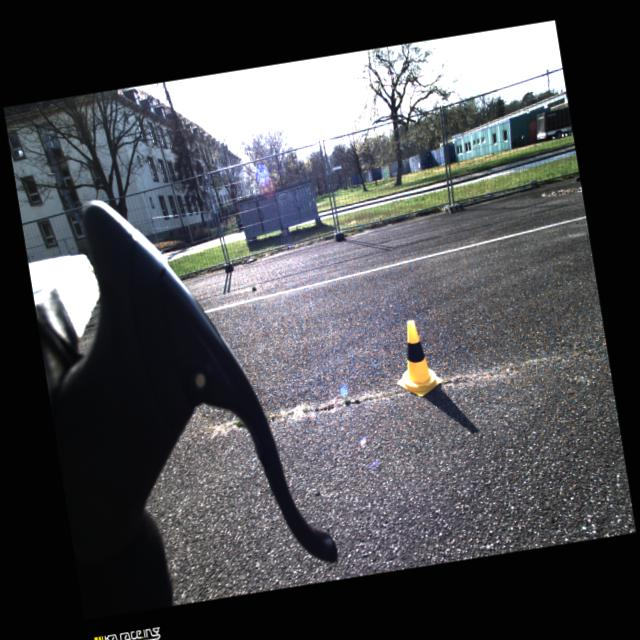yellow_cone: (388, 317, 444, 400)
